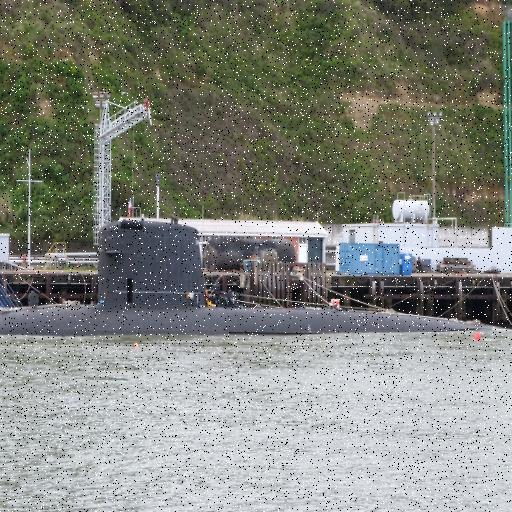submarine: (1, 225, 495, 330)
